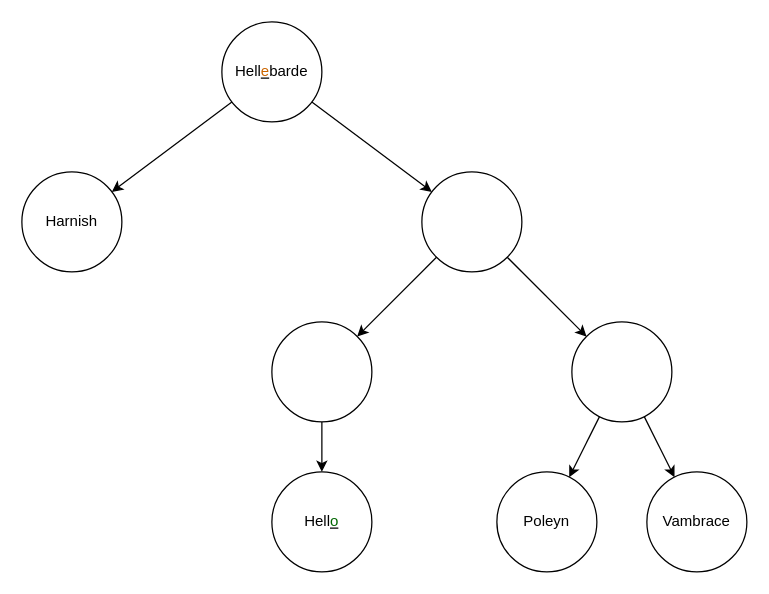
This 769x594 diagram has some shape labels left out. The shapes that lost their labels are listed below. From the top down, each one's centre as x and y in pixels, then its label:
At [471,221]: "P auldron".
At [321,371]: "Hel m et".
At [621,371]: "Sword".
